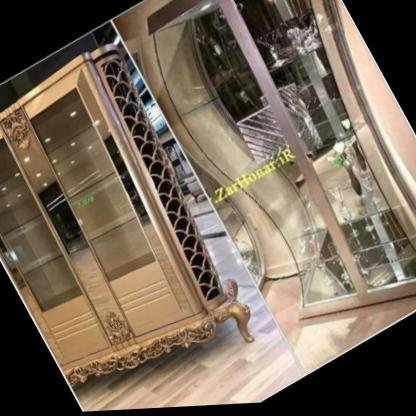Cupboard: (122, 0, 416, 381), (0, 34, 268, 416)
